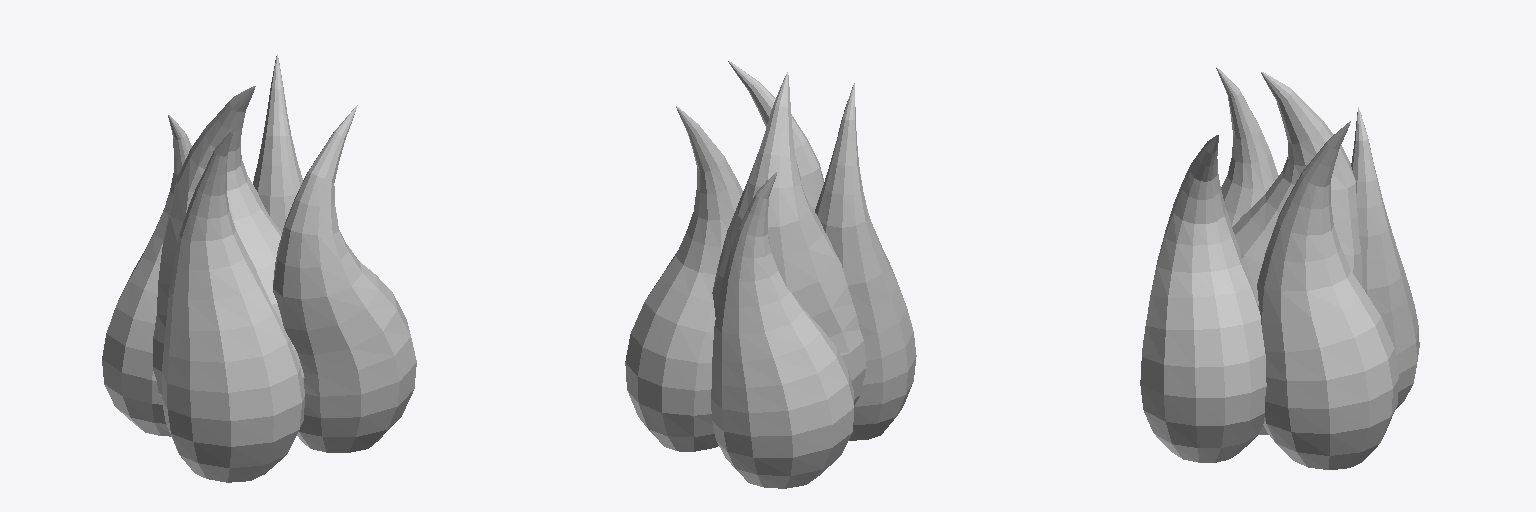
Rendered from fire_000011.obj.
3 renders of one model, left to right at view 1: azimuth 30°, elevation 25°; view 2: azimuth 150°, elevation 25°; view 3: azimuth 270°, elevation 25°, orthographic.
Visible parts, largest first — view 1: flame_NurbsPath.015; view 2: flame_NurbsPath.015; view 3: flame_NurbsPath.015.
Part boxes in pixels (x1,y1,x2,y2): flame_NurbsPath.015: (102, 54, 416, 482); flame_NurbsPath.015: (625, 61, 916, 488); flame_NurbsPath.015: (1140, 67, 1419, 469).
Size of the model in its own units: 0.755 by 1.13 by 0.799.